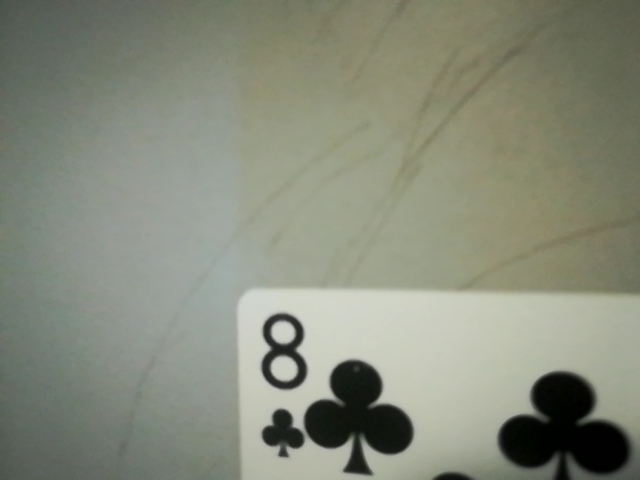mh 8: (245, 296, 315, 467)
